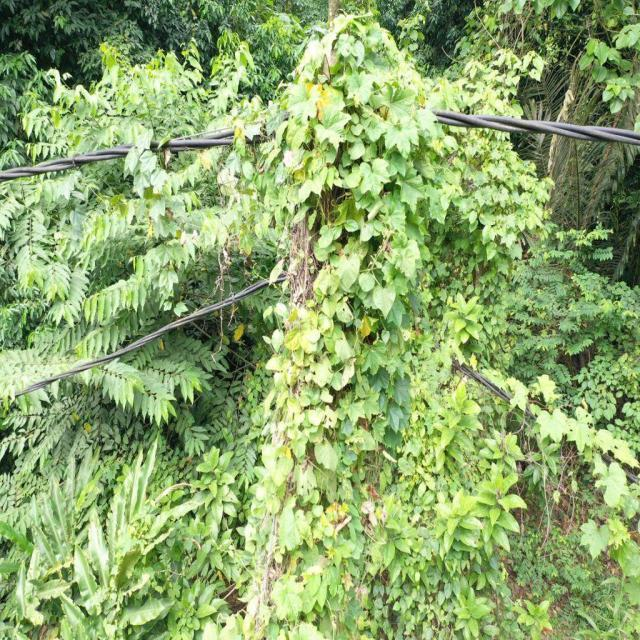critical vegetation: (250, 9, 456, 477)
